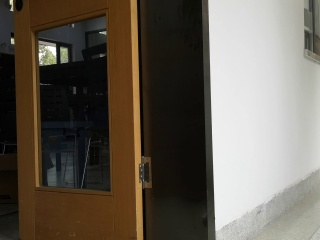room: (1, 3, 219, 238)
